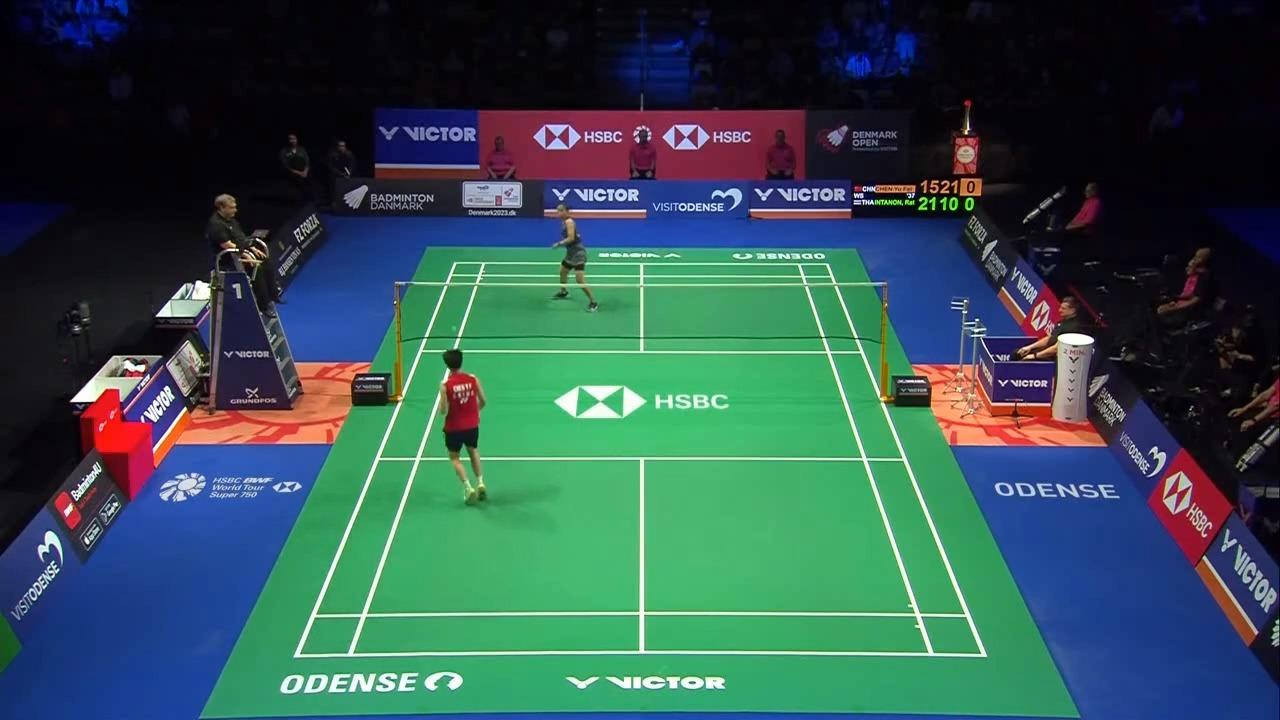shuttle: (451, 325, 459, 335)
